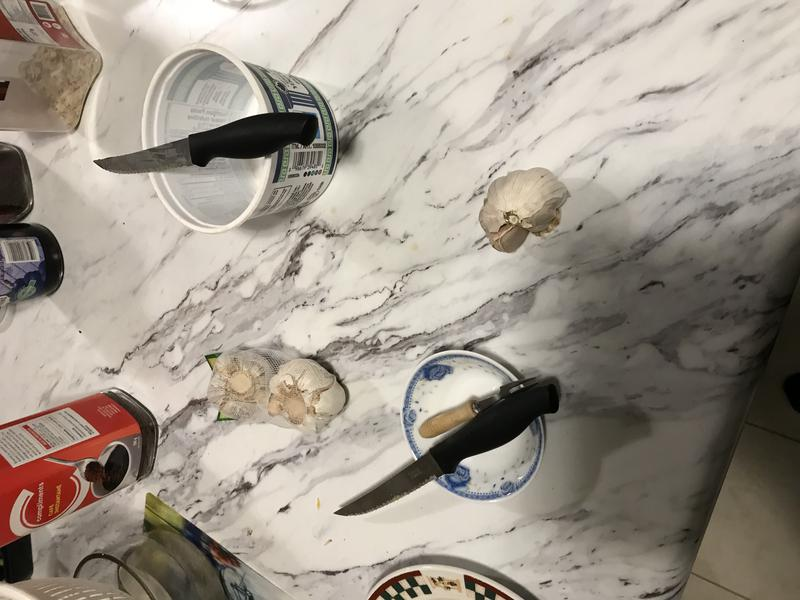garlic: (474, 159, 579, 259), (263, 355, 351, 436), (209, 344, 282, 427)
